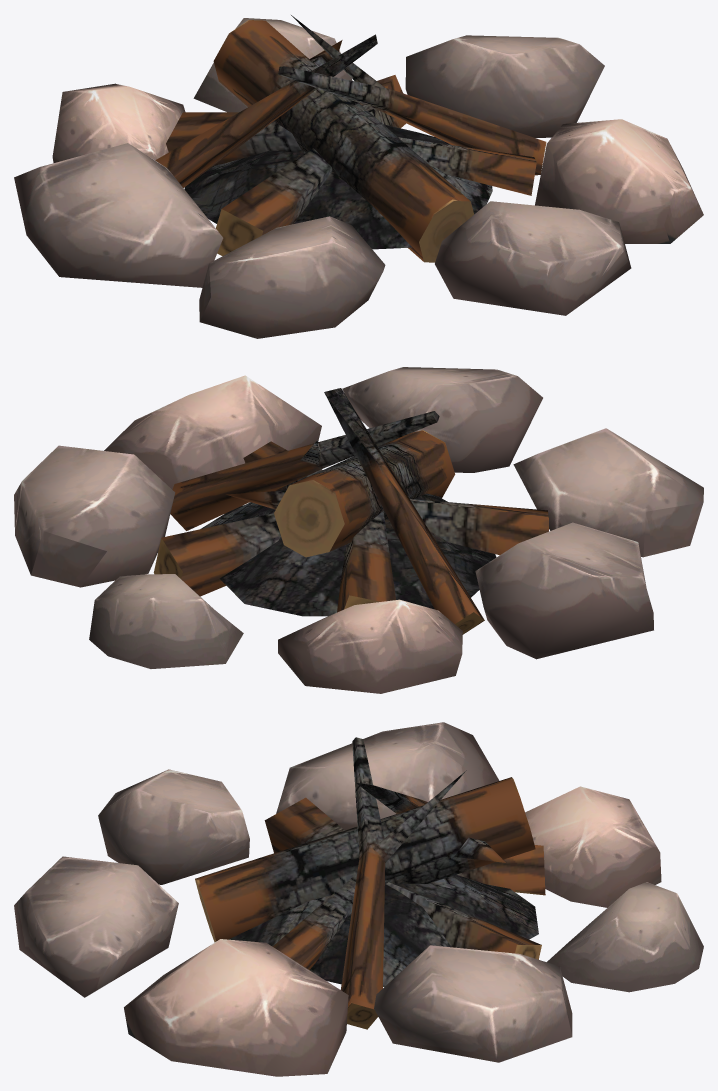
File: campfire_a.gltf
3 views of the same model, one above another, from view 1: azimuth 30°, elevation 25°; view 2: azimuth 150°, elevation 25°; view 3: azimuth 270°, elevation 25° (orthographic).
Parts seen in each view (by area): view 1: campfire_A; view 2: campfire_A; view 3: campfire_A.
Part boxes in pixels (<box>): campfire_A: <box>14,15,703,338</box>; campfire_A: <box>14,367,703,693</box>; campfire_A: <box>14,722,703,1076</box>.
Size of the model in its own units: 1.09 by 0.3027 by 1.08.
Materials: 1 (1 with a texture image).
